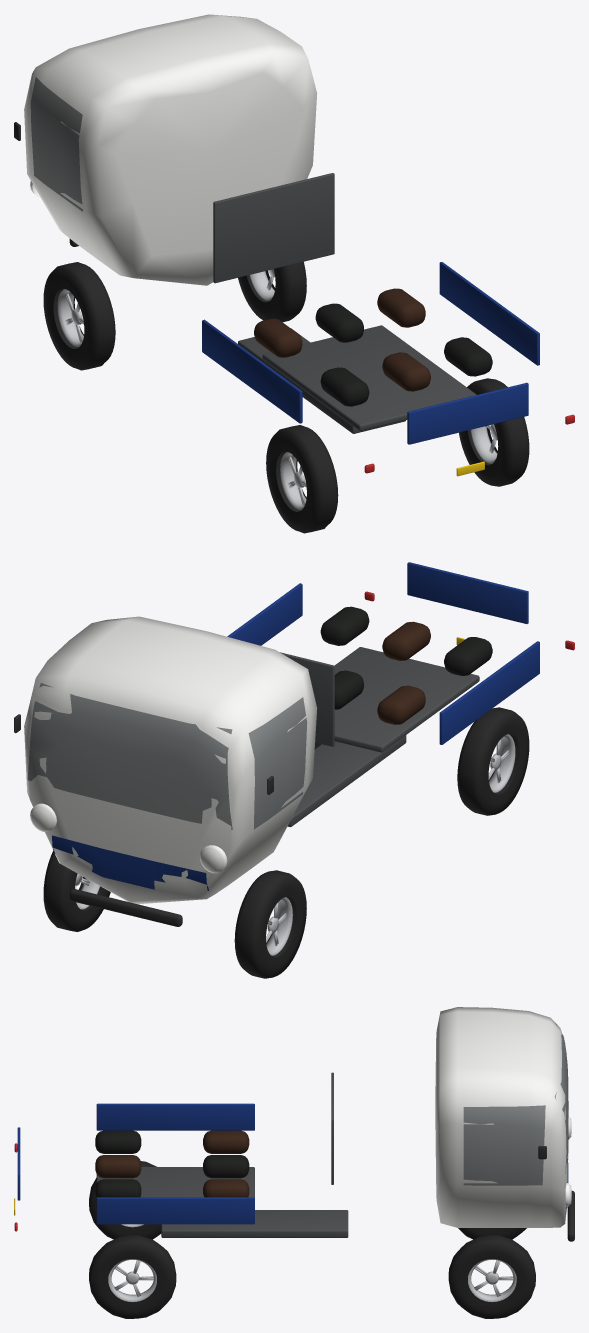
File: minitruck_0.glb
3 views of the same model, one above another, from view 1: azimuth 30°, elevation 25°; view 2: azimuth 150°, elevation 25°; view 3: azimuth 270°, elevation 25° (orthographic). The views are drawn at different scales.
Parts seen in each view (by area): view 1: body, wheel_0, wheel_2, wheel_3, wheel_1; view 2: body, wheel_0, wheel_2, wheel_1; view 3: body, wheel_1, wheel_3, wheel_2, wheel_0.
Boxes of the visible parts, box(x1,y1,x2,y2) form: body: box(14, 14, 574, 476); wheel_0: box(43, 262, 115, 370); wheel_2: box(266, 425, 338, 533); wheel_3: box(459, 378, 529, 486); wheel_1: box(238, 262, 306, 322); body: box(14, 562, 574, 926); wheel_0: box(234, 870, 306, 978); wheel_2: box(457, 707, 529, 815); wheel_1: box(43, 851, 110, 931); body: box(14, 1007, 574, 1241); wheel_1: box(448, 1235, 535, 1318); wheel_3: box(89, 1235, 176, 1318); wheel_2: box(89, 1161, 161, 1239); wheel_0: box(458, 1228, 526, 1239).
Bounding box in the file's own units: 1.66 × 1.85 × 3.9.
